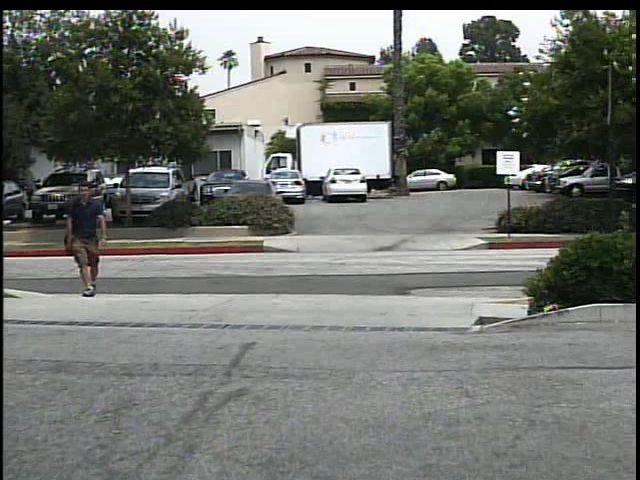person: (64, 181, 115, 298)
